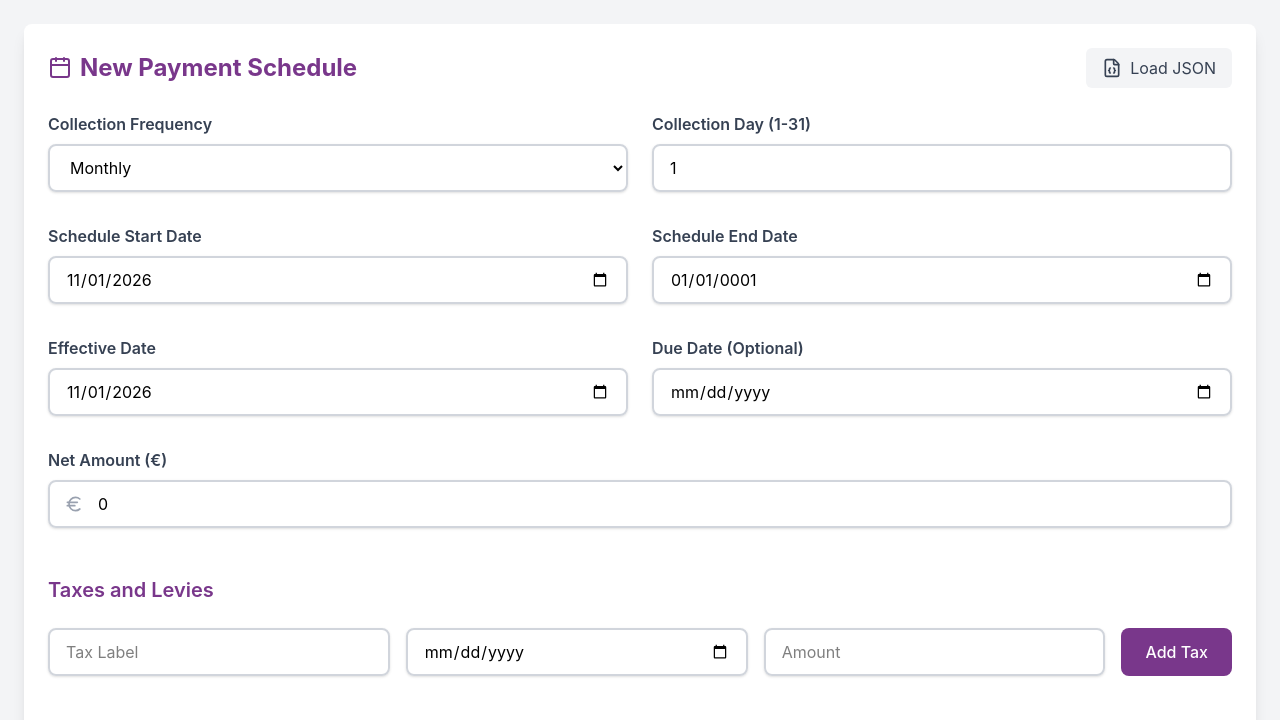
NewSchedule › shows a parsed API error for a non-ok, non-401 response
Replace the text in the number field showing "0" with "250": (640, 504) top-left (48, 480), bottom-right (1232, 528)
(page scrolled)
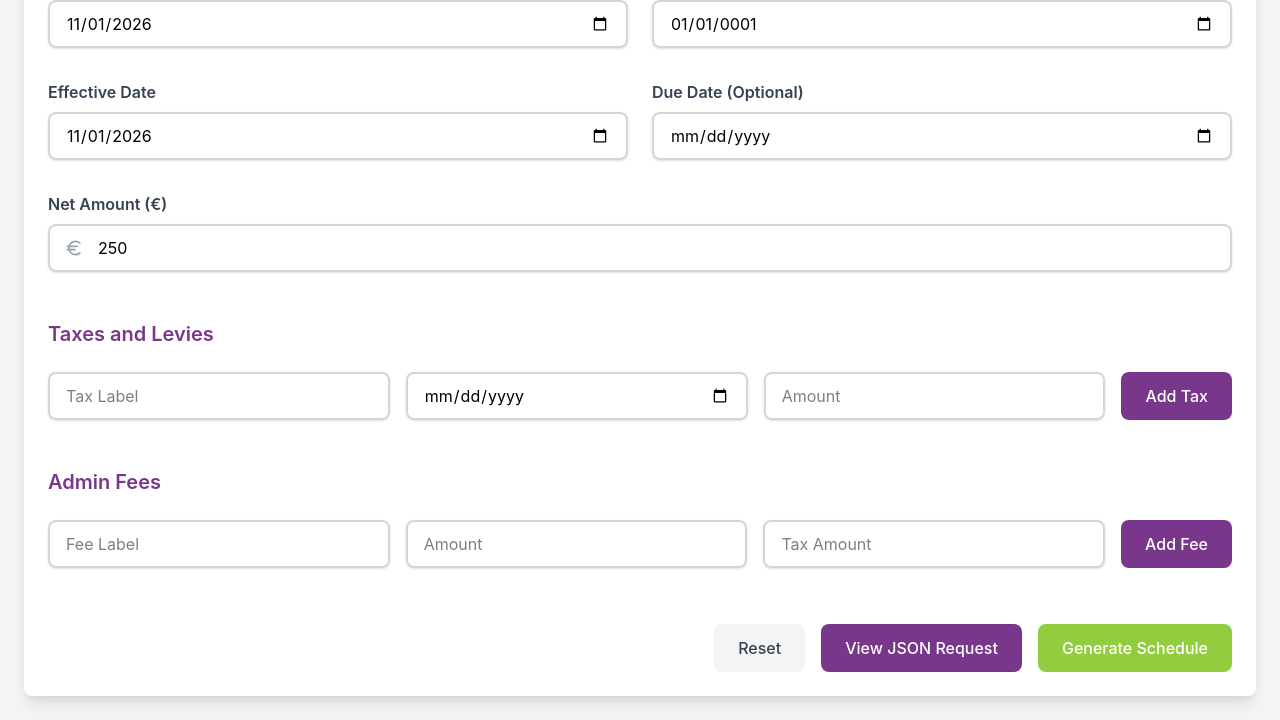
Click the button "Generate Schedule": (1135, 648) top-left (1038, 624), bottom-right (1232, 672)
(page scrolled)
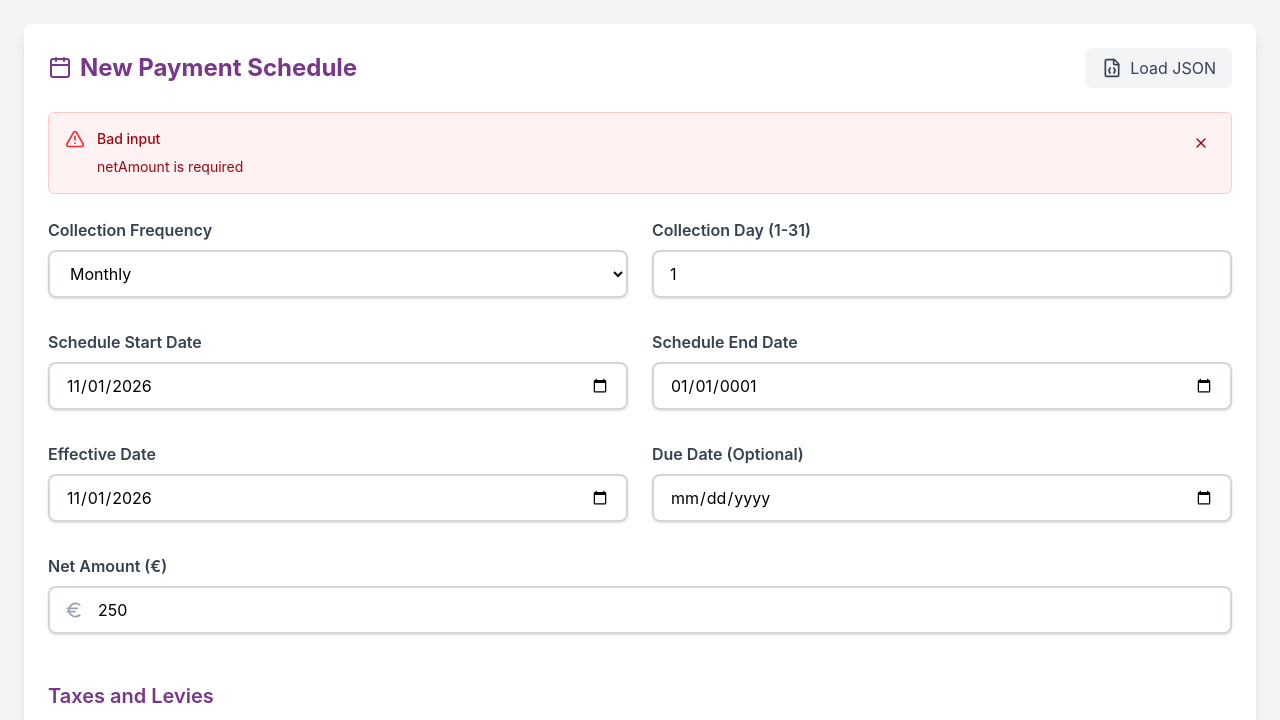
Now the heading "Bad input" is shown, box top-left (97, 130), bottom-right (160, 147)
Now the text "netAmount is required" is shown, box top-left (97, 158), bottom-right (243, 175)
